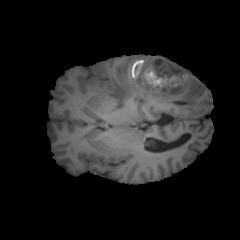glioma: (107, 55, 203, 110)
